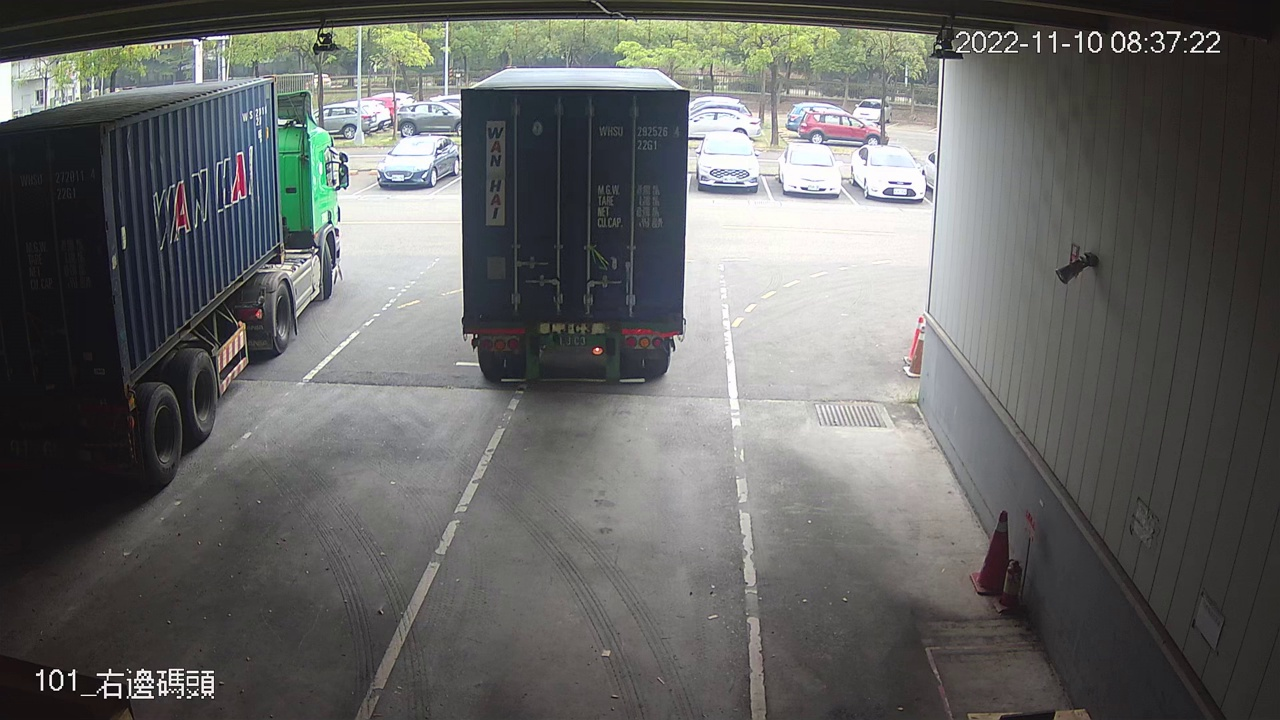container: (594, 121, 683, 155)
